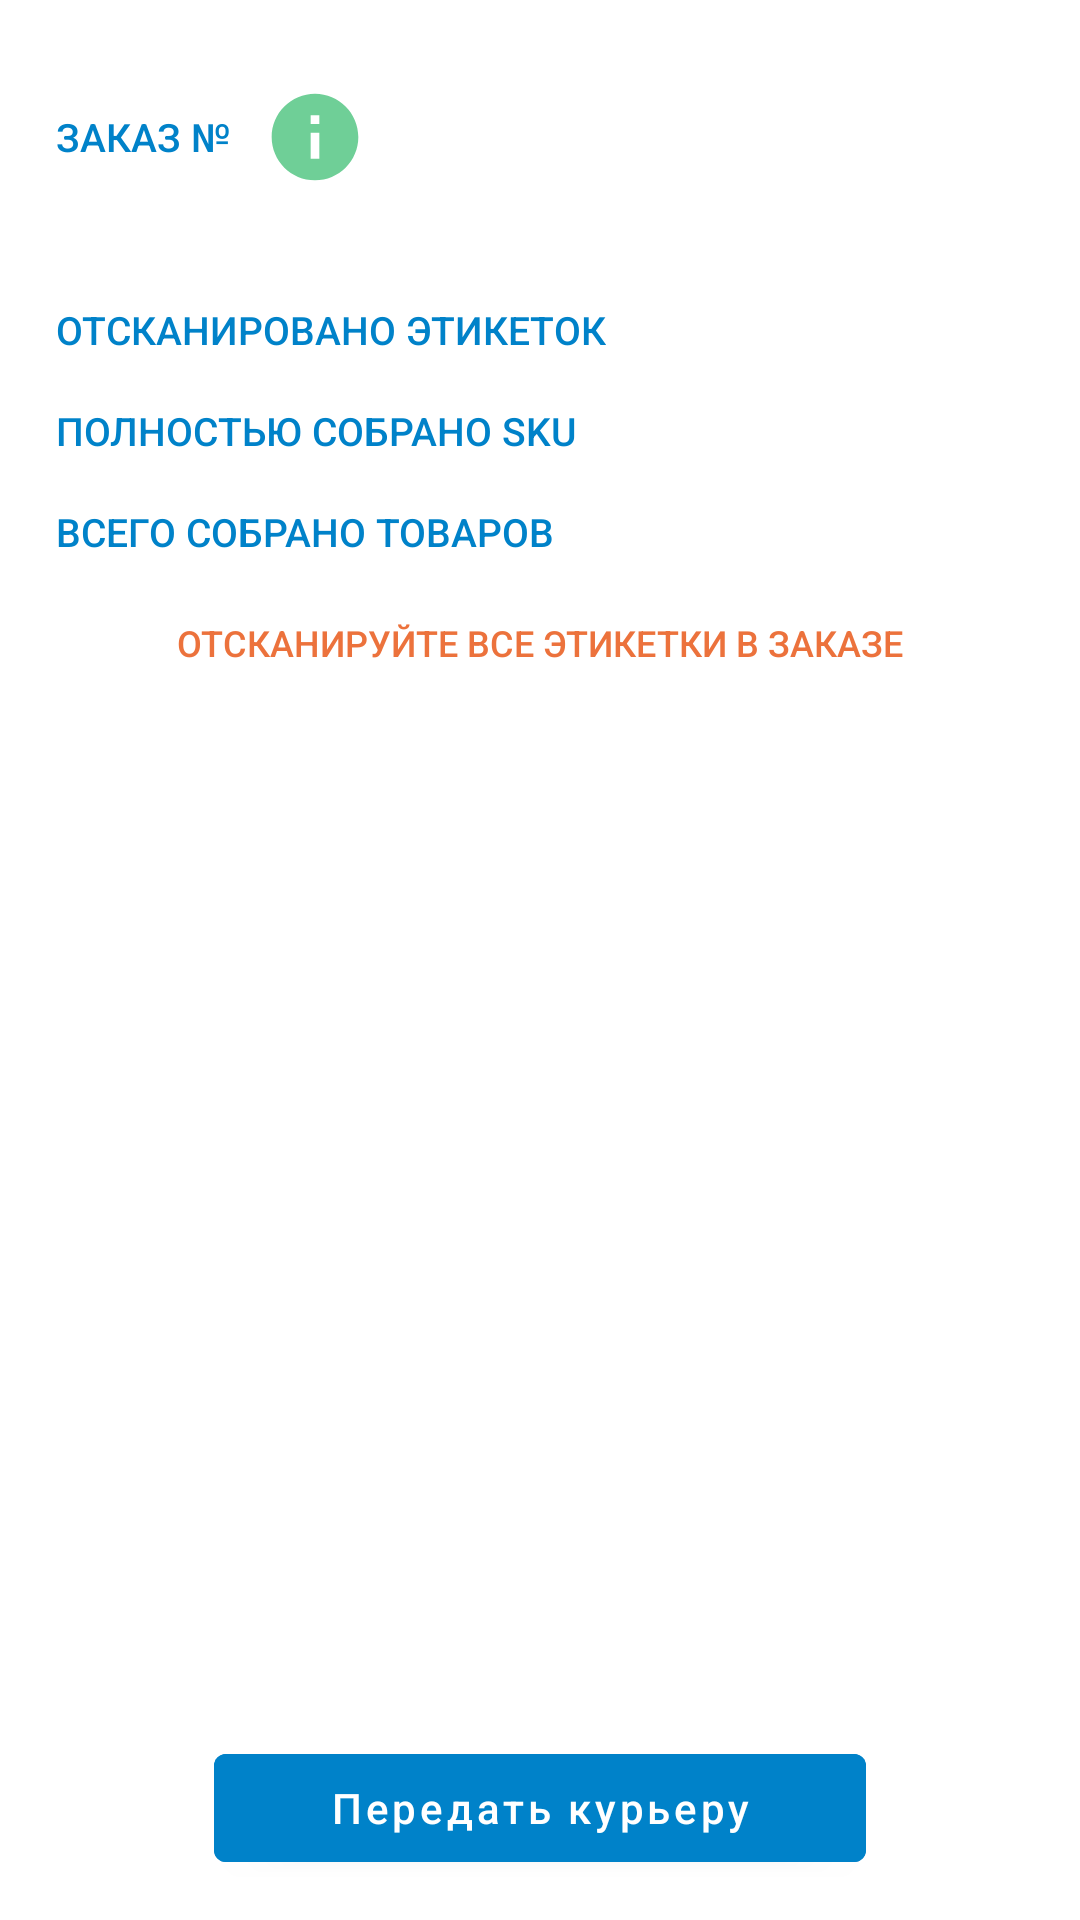

Icon bounding boxes for this 1080x1920 phone screenshot, format (x1, y1, x2, y2):
info: (271, 93, 359, 181)
